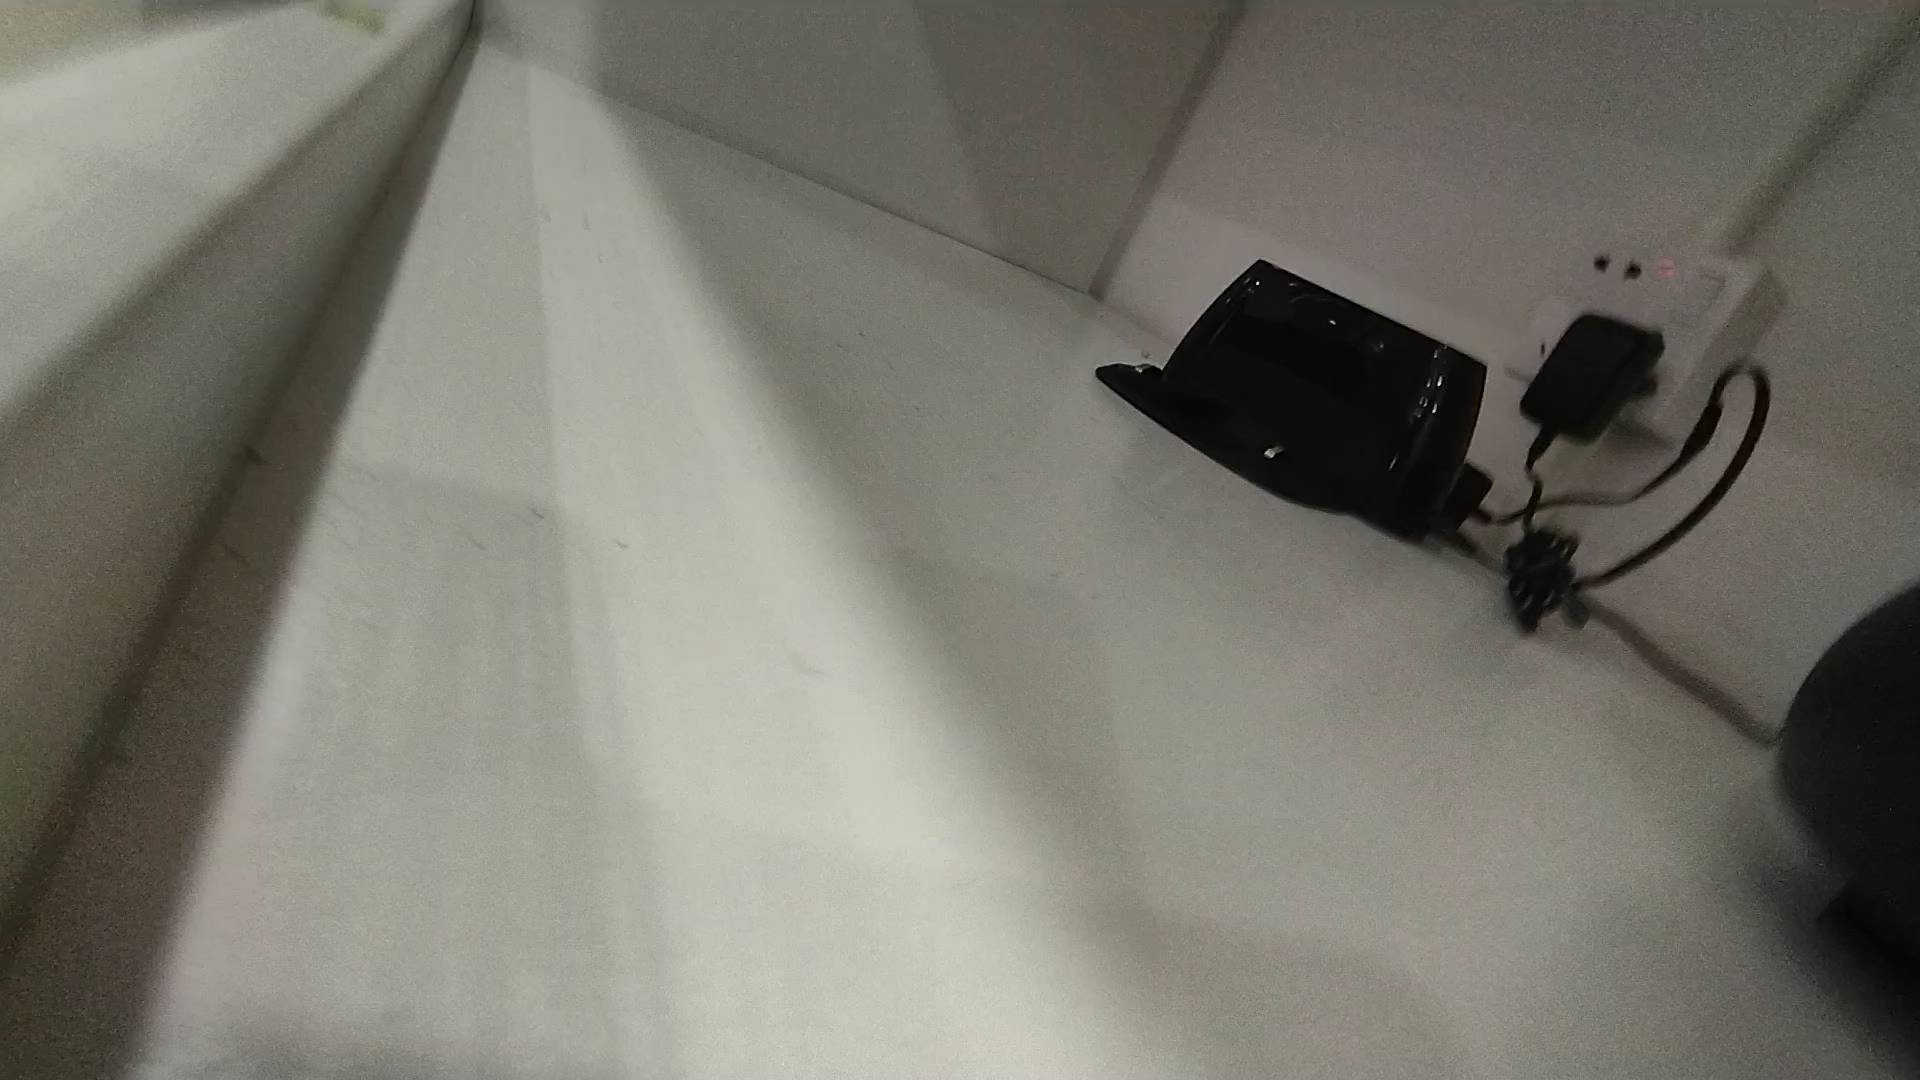recharge seat: (1096, 256, 1491, 530)
